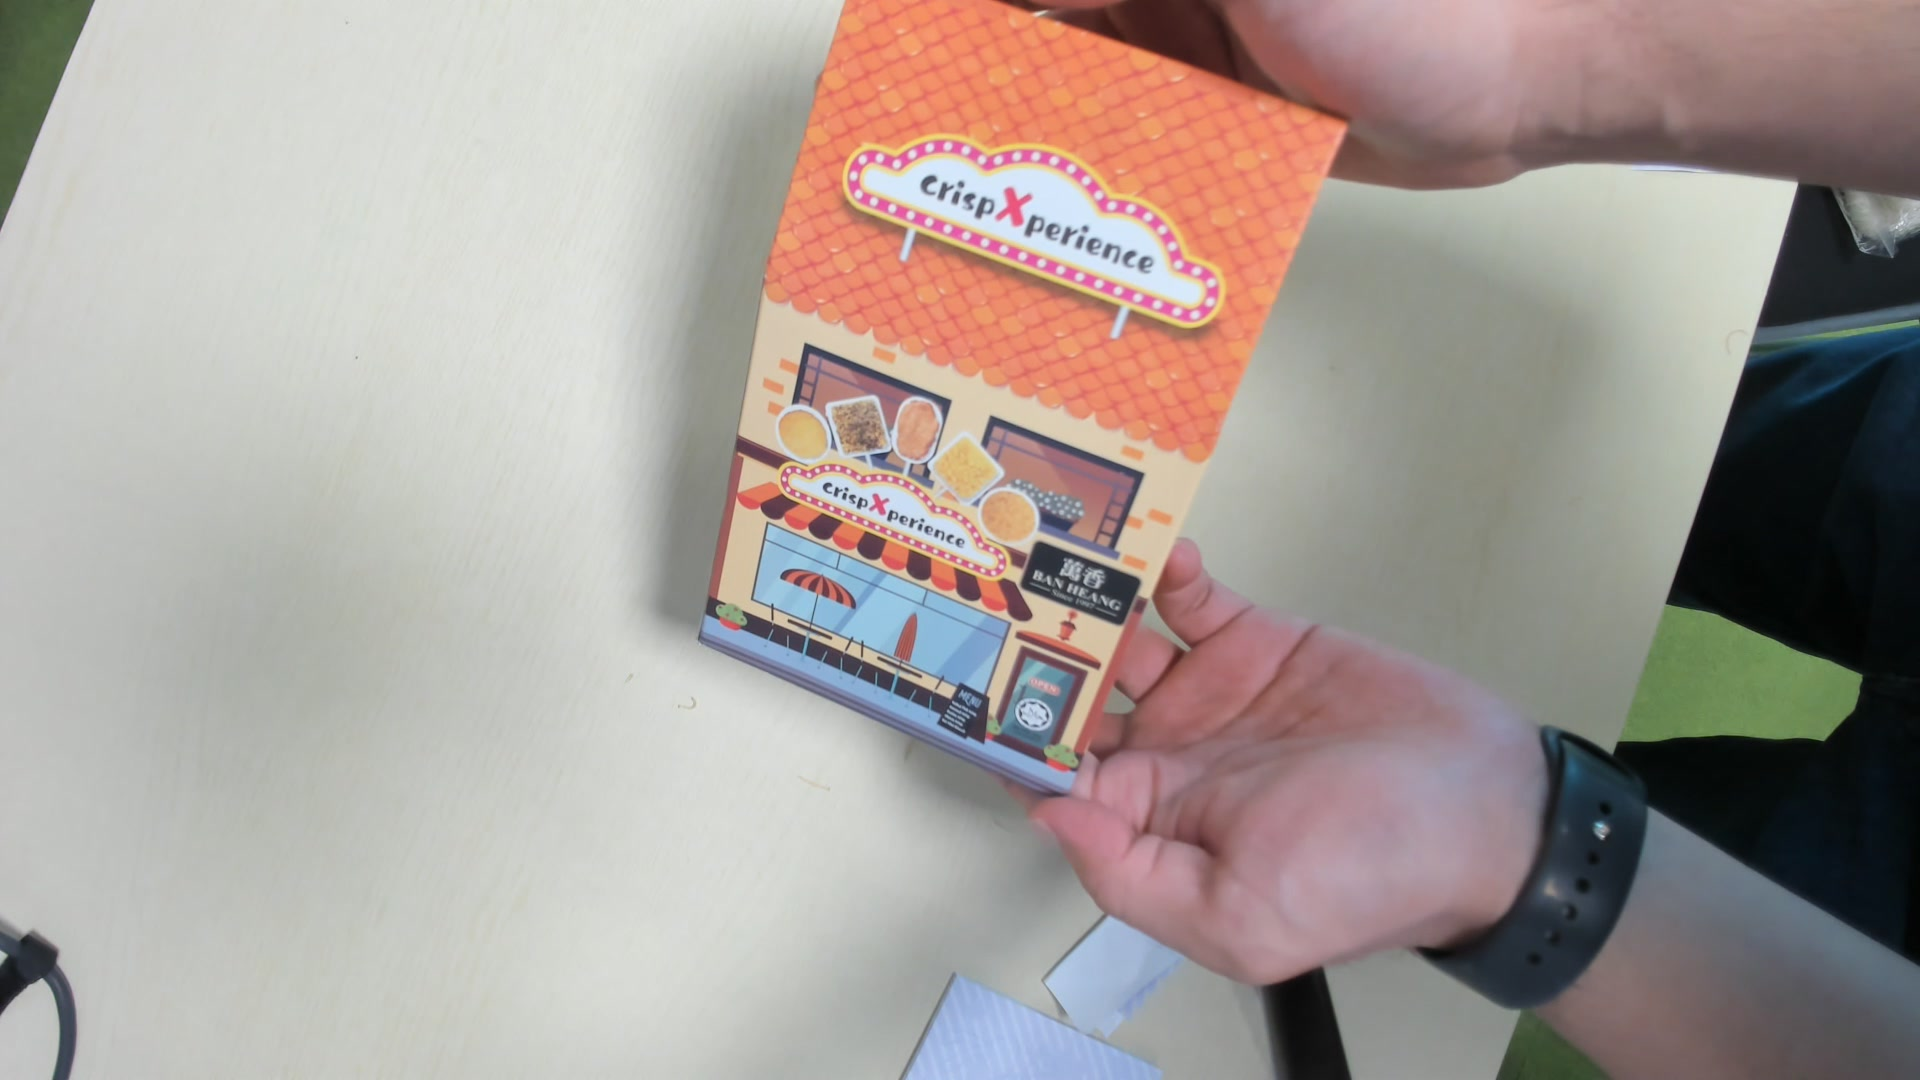OtherSauceDressingSoupbasePaste_500-599g_Halal_NonHealthy: (709, 7, 1346, 793)
